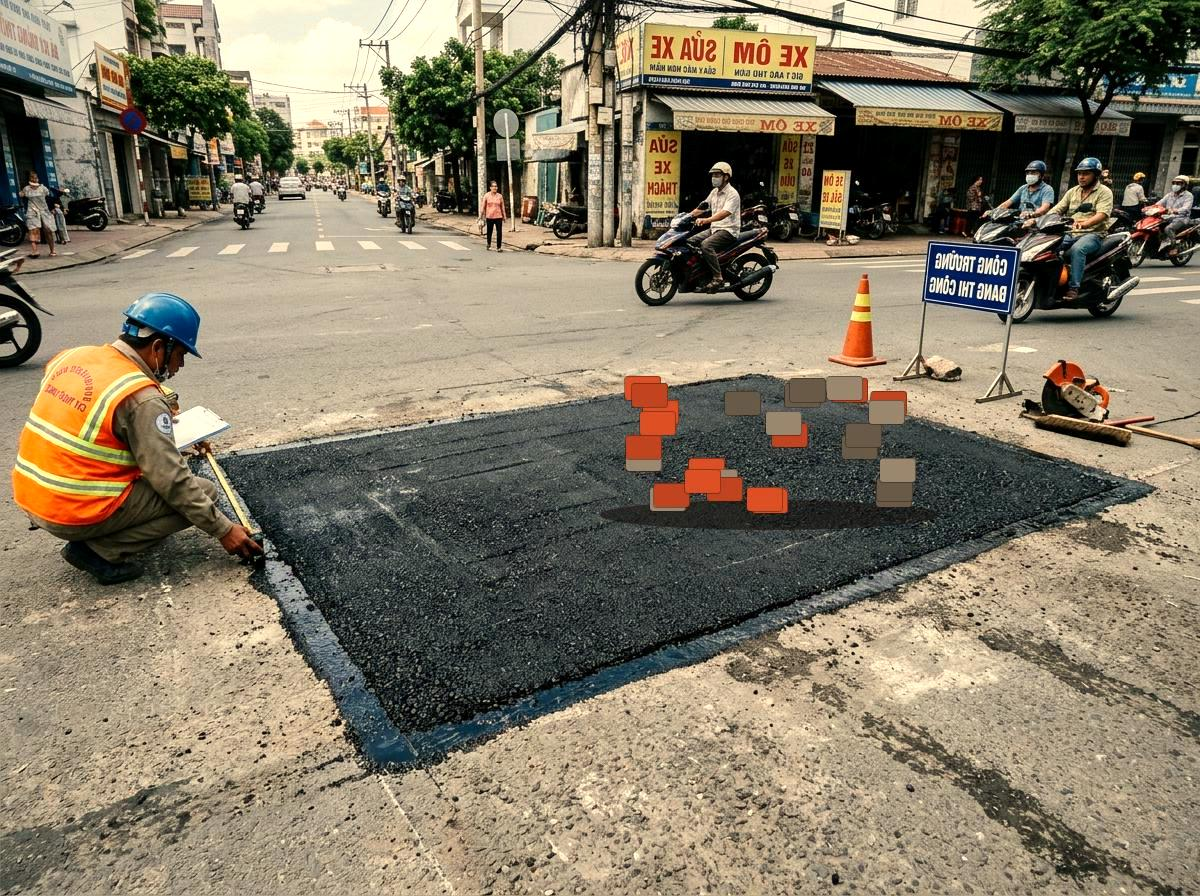ROAD_OBSTACLE: (600, 340, 940, 530)
